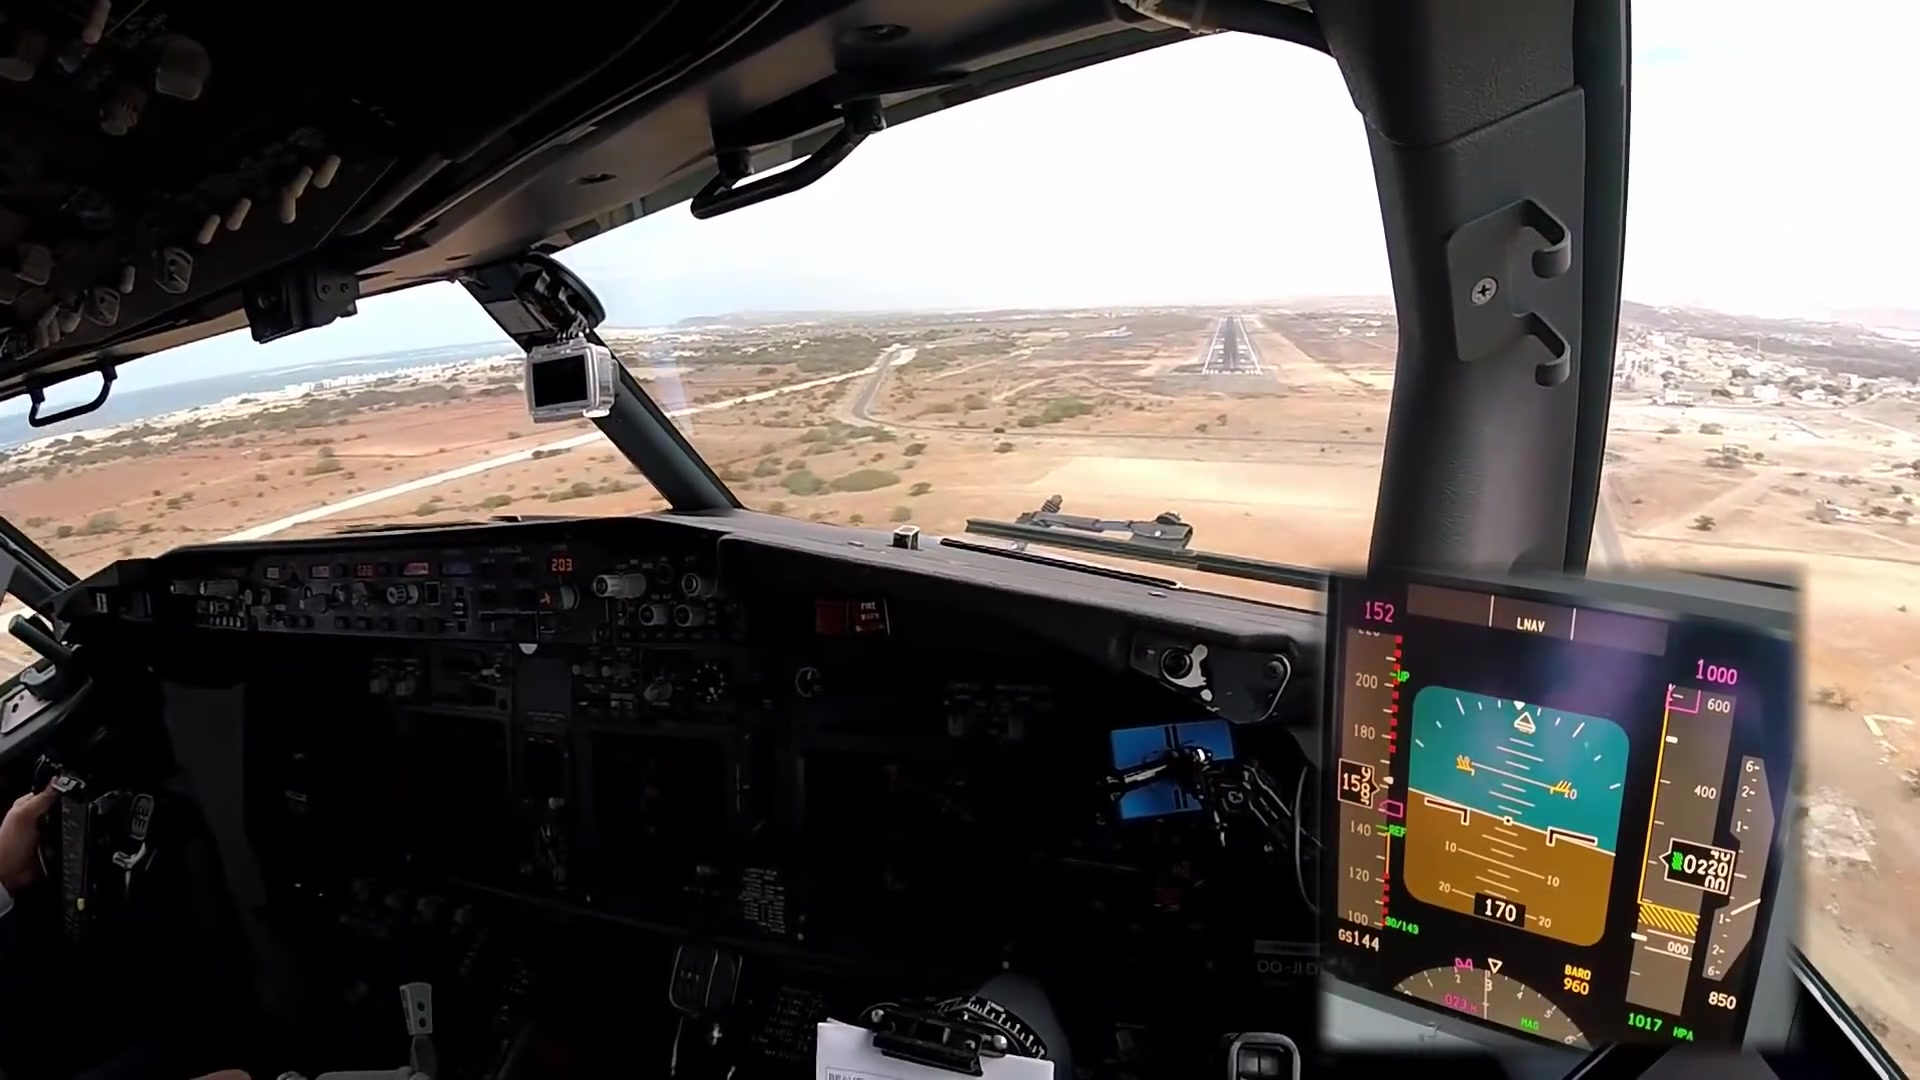entrance: (1203, 369, 1261, 376)
runway: (1199, 314, 1265, 378)
